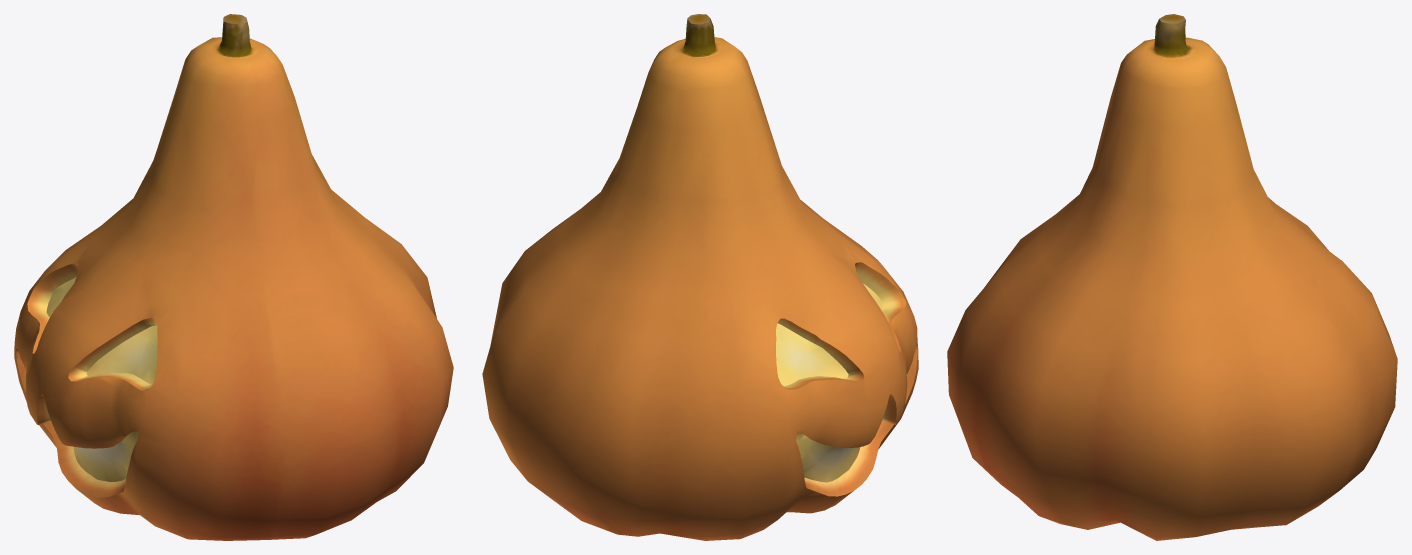
Rendered from pref_beach_WSJ_decorate_pumpkin02_lv3.fbx.
3 views of the same model, side by side, from view 1: azimuth 30°, elevation 25°; view 2: azimuth 150°, elevation 25°; view 3: azimuth 270°, elevation 25° (orthographic).
Visible parts, largest first — view 1: pref_beach_WSJ_decorate_pumpkin02_lv3; view 2: pref_beach_WSJ_decorate_pumpkin02_lv3; view 3: pref_beach_WSJ_decorate_pumpkin02_lv3.
Boxes of the visible parts, bbox=[...] form: pref_beach_WSJ_decorate_pumpkin02_lv3: bbox=[14, 14, 453, 540]; pref_beach_WSJ_decorate_pumpkin02_lv3: bbox=[482, 14, 918, 540]; pref_beach_WSJ_decorate_pumpkin02_lv3: bbox=[947, 14, 1397, 540].
Size of the model in its own units: 1.96 by 2.31 by 1.98.
